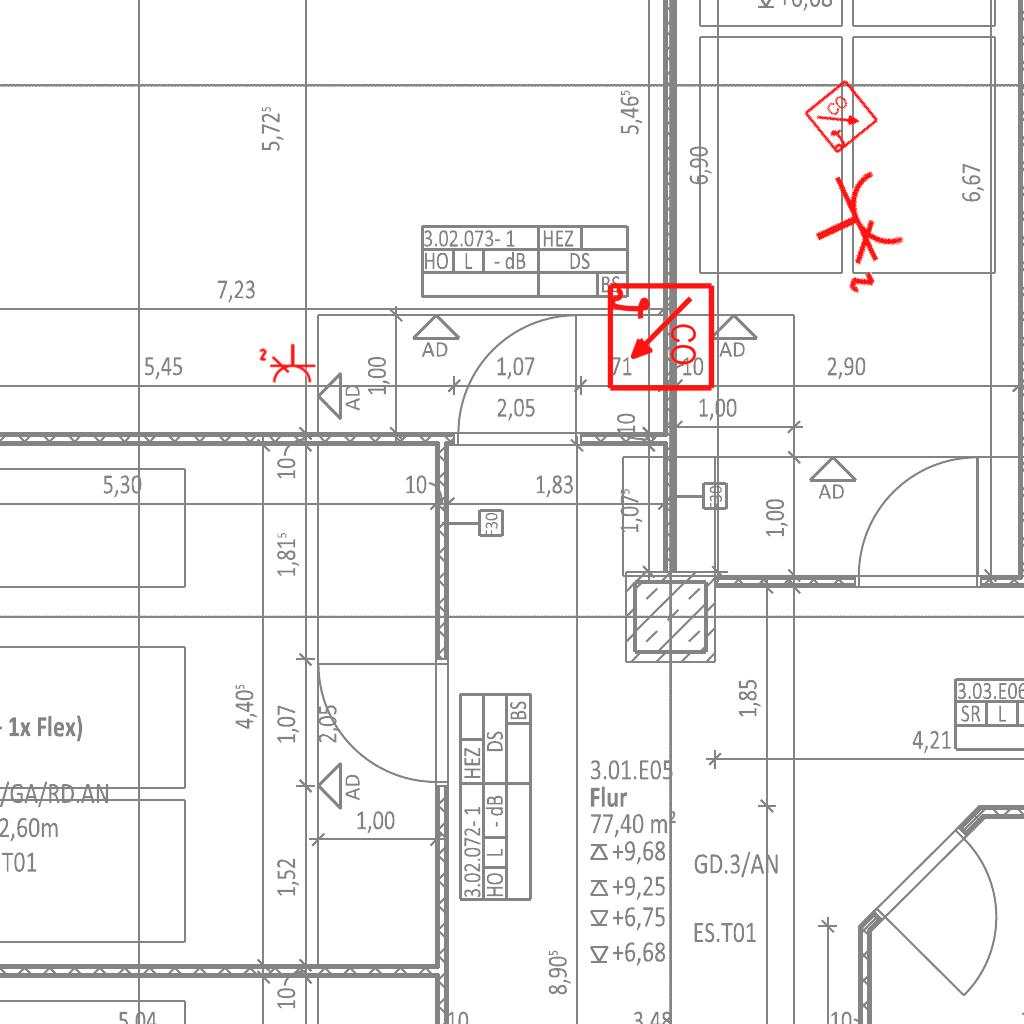ROA_Rauchmelder_optisch_mit_Signalgeber_(Sockelsirene): (603, 281, 716, 394), (802, 77, 882, 157)
Schukosteckdose_mehrfach: (790, 156, 921, 304), (258, 341, 318, 385)
